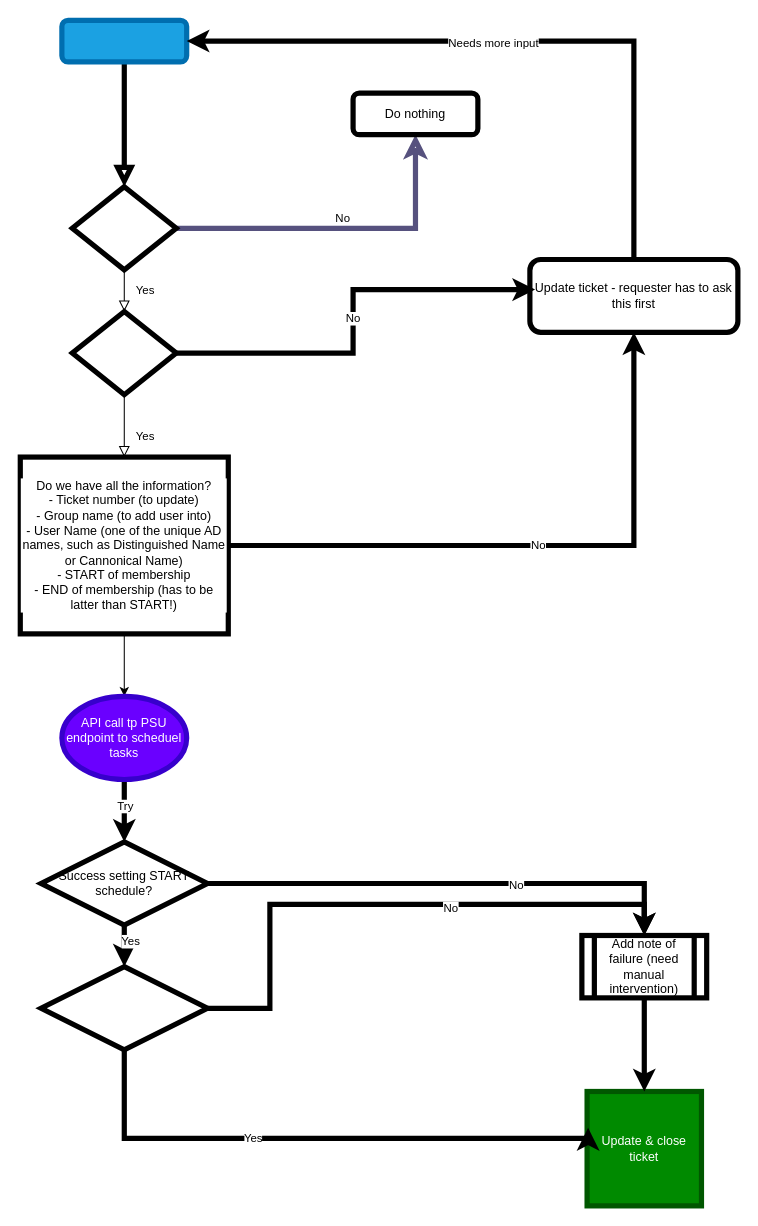
Some shapes in this 758 by 1226 pixel diagram are drawn without their labels. The centre of each missing label's shape, as x and y in pixels:
Is it authorized?: pixel 123 352
Is it the right type?: pixel 123 228
Manage Engine Ticket / Template: pixel 124 40
Success setting STOP schedule?: pixel 124 1008
